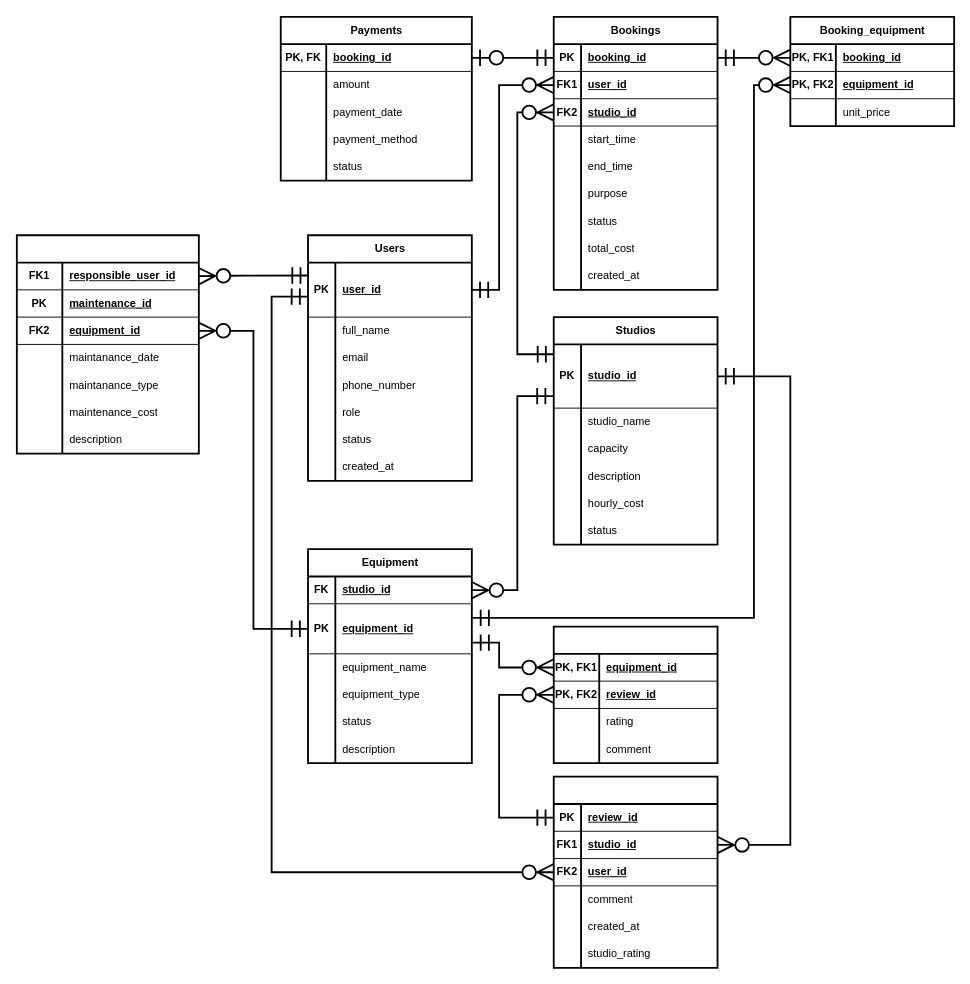
Some shapes in this 970 by 984 pixel diagram are drawn without their labels. The box of each missing label's shape, as (x1, y1, x2, y2) in pixels:
Equipment_maintenance: (15, 234, 199, 454)
Review_equipment: (552, 625, 718, 763)
Reviews: (552, 775, 718, 968)
